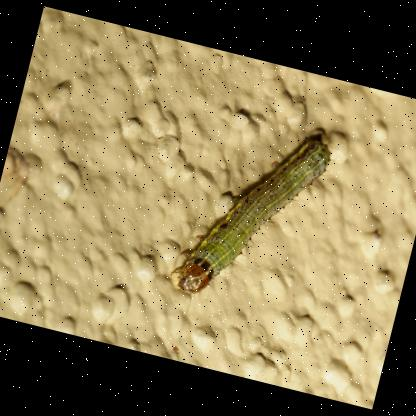Fall Armyworm Larvae: (164, 100, 350, 328)
